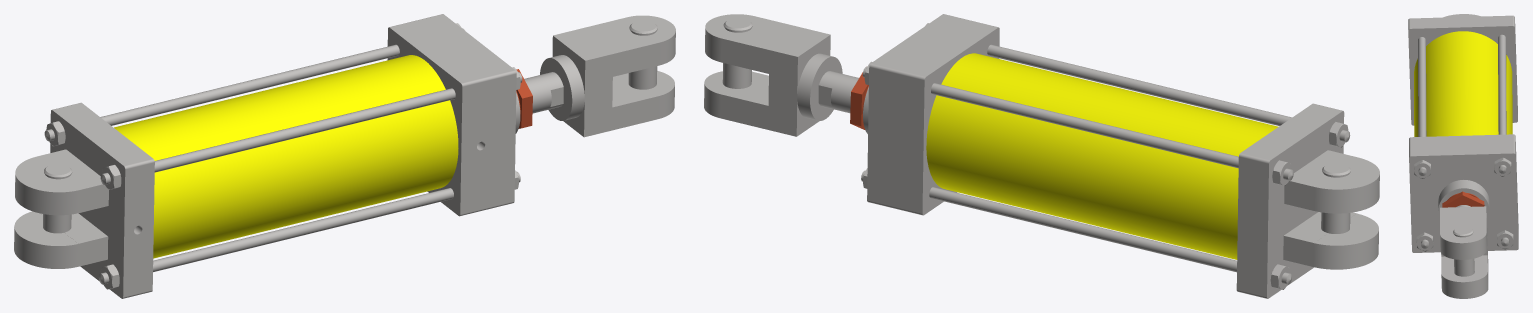
The picture shows the model from 3 angles, left to right: view 1: azimuth 30°, elevation 25°; view 2: azimuth 150°, elevation 25°; view 3: azimuth 270°, elevation 25°; orthographic projection. The views are drawn at different scales.
Visible parts, largest first — view 1: Solid1 (×11), Solid3; view 2: Solid1 (×11), Solid3; view 3: Solid1 (×12), Solid3.
Part boxes in pixels (<box>): Solid1 (×11): <box>14,15,675,298</box>; Solid3: <box>429,14,516,206</box>; Solid1 (×11): <box>704,14,1379,298</box>; Solid3: <box>867,14,957,205</box>; Solid1 (×12): <box>1408,14,1518,298</box>; Solid3: <box>1409,148,1518,252</box>.
Size of the model in its own units: 0.8376 by 0.1698 by 0.1709.
